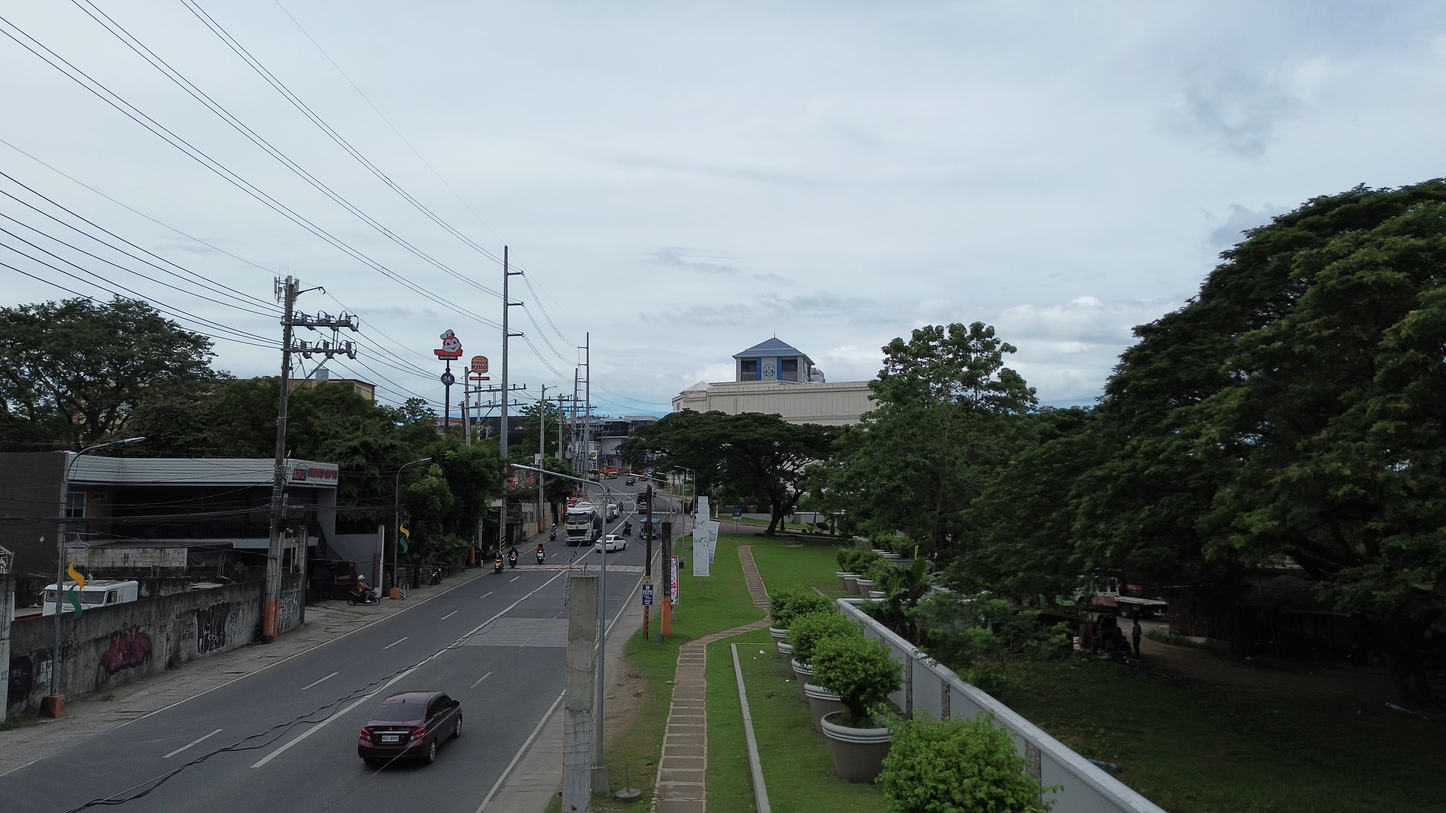car: (358, 692, 462, 763), (625, 476, 636, 486)
motorcycle: (348, 589, 380, 605), (430, 567, 441, 585), (494, 553, 503, 574), (508, 550, 518, 568), (621, 522, 632, 537), (536, 546, 545, 564)
vehicle: (59, 579, 138, 612), (565, 502, 603, 544), (594, 534, 627, 552), (347, 590, 380, 605), (607, 503, 620, 521), (494, 552, 504, 574), (508, 549, 518, 568), (536, 544, 545, 563), (625, 475, 635, 486), (606, 472, 617, 479)
